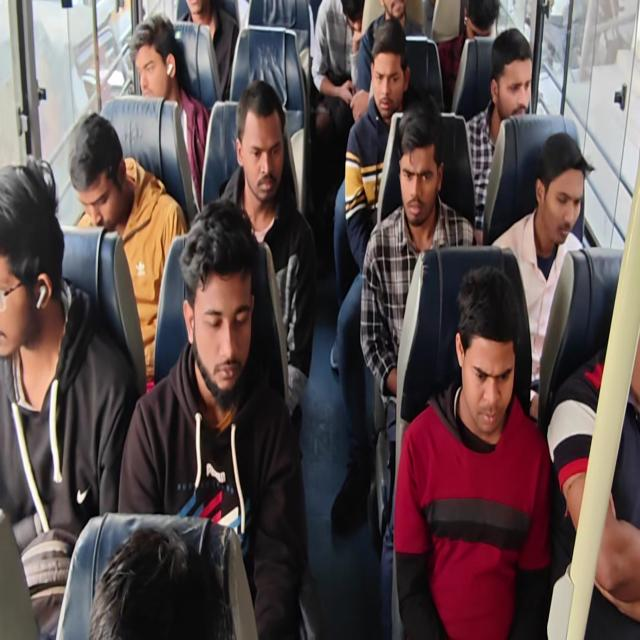person: (0, 141, 64, 382), (96, 527, 224, 640), (453, 280, 521, 448), (186, 265, 249, 408), (68, 103, 130, 222), (128, 12, 181, 97), (546, 142, 586, 248), (240, 100, 280, 198), (492, 37, 530, 124), (369, 46, 401, 118), (402, 158, 432, 228), (459, 0, 495, 56), (373, 0, 410, 38), (181, 0, 215, 35), (332, 0, 358, 36)
